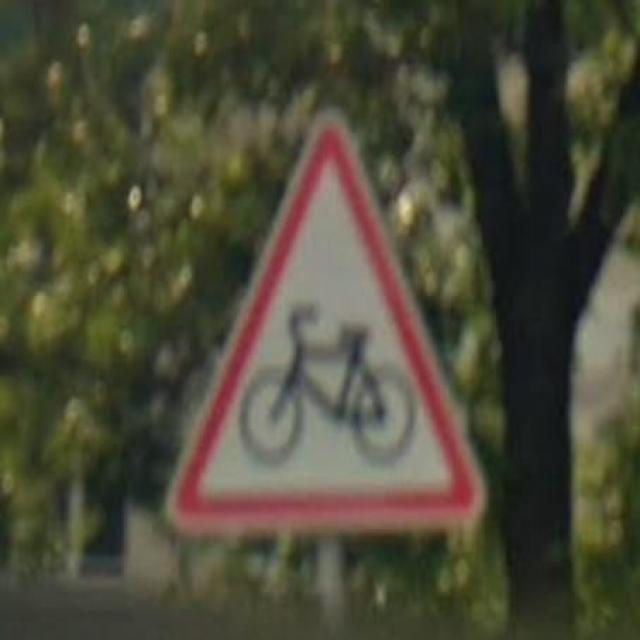bicycle: (145, 109, 484, 540)
